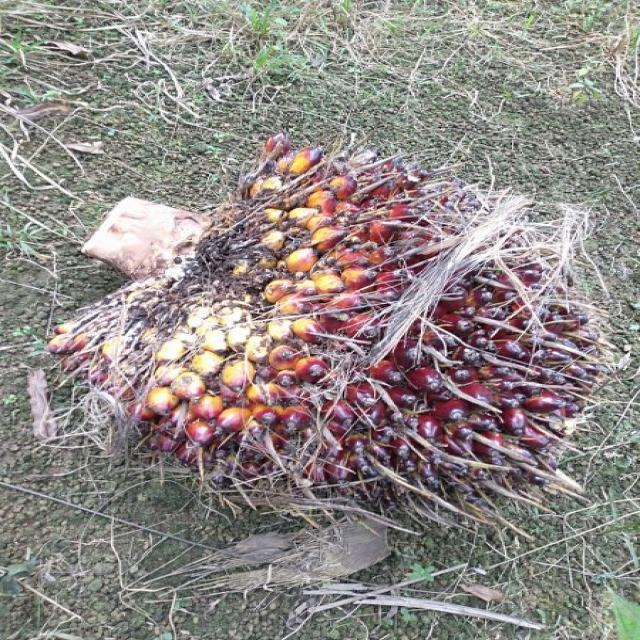fraksi 1: (57, 143, 591, 499)
